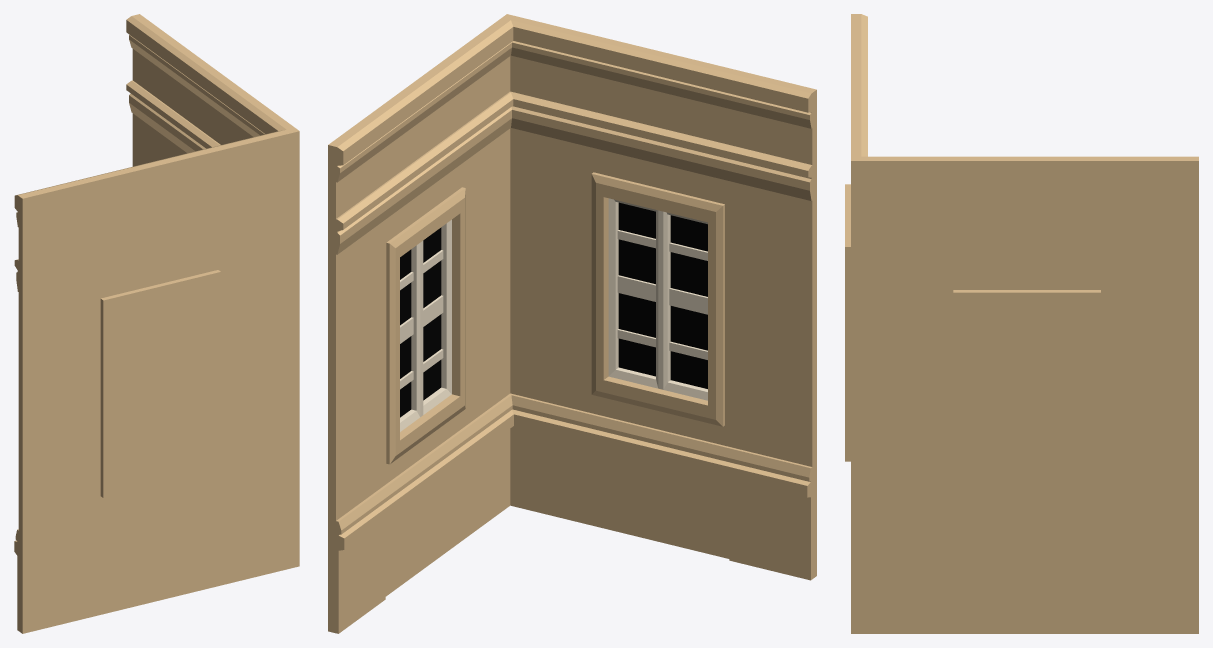
Rendered from Corner_B_INNER.fbx.
3 renders of one model, left to right at view 1: azimuth 30°, elevation 25°; view 2: azimuth 150°, elevation 25°; view 3: azimuth 270°, elevation 25°, orthographic. The views are drawn at different scales.
Parts seen in each view (by area): view 1: Corner_B_INNER; view 2: Corner_B_INNER; view 3: Corner_B_INNER.
Boxes of the visible parts, bbox=[...] form: Corner_B_INNER: bbox=[14, 14, 299, 633]; Corner_B_INNER: bbox=[328, 14, 816, 633]; Corner_B_INNER: bbox=[845, 14, 1198, 633].
Bounding box in the file's own units: 203 × 203 × 300.
